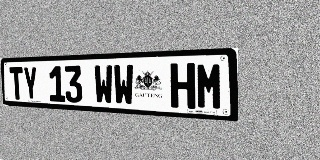1: (48, 66, 65, 102)
3: (64, 65, 82, 103)
H: (170, 63, 195, 109)
M: (196, 62, 223, 110)
T: (9, 67, 24, 100)
W: (113, 64, 134, 106), (94, 65, 114, 105)
Y: (23, 67, 38, 101)
